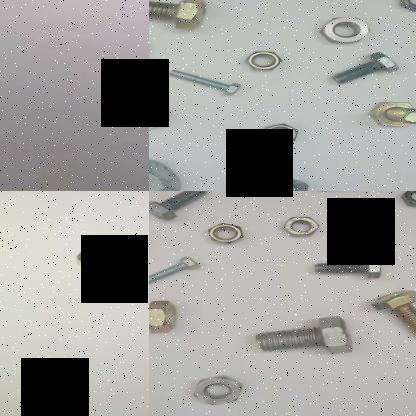Bolts: (250, 317, 360, 360), (327, 51, 407, 87), (366, 288, 416, 342), (168, 65, 238, 99), (305, 255, 387, 283), (149, 191, 216, 223), (149, 254, 207, 290), (357, 98, 416, 132), (149, 0, 208, 33), (149, 294, 182, 338), (149, 157, 187, 191), (103, 61, 149, 84)
NUTS: (187, 370, 251, 412), (316, 9, 374, 43), (234, 172, 315, 191), (272, 214, 324, 242), (204, 221, 252, 250), (256, 119, 300, 147), (242, 49, 288, 75), (73, 246, 109, 268), (149, 101, 170, 135), (395, 191, 416, 212), (394, 0, 416, 14)
